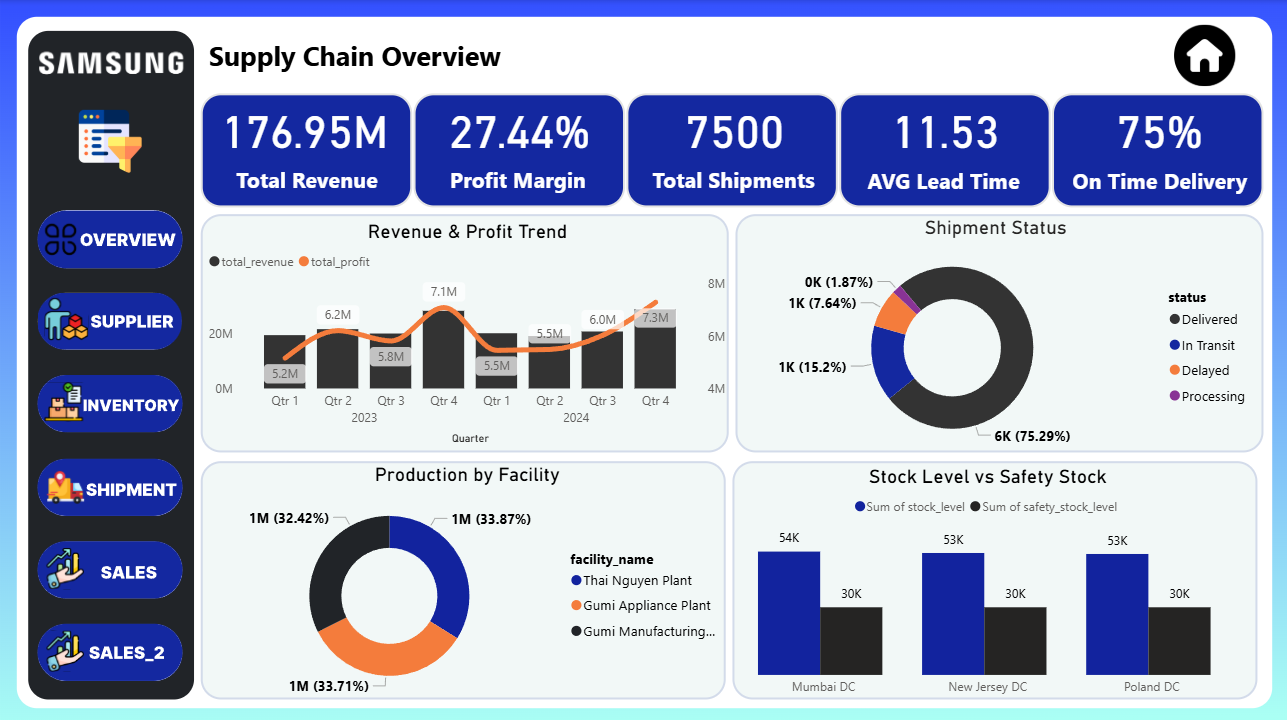

What the dashboard file says about the page in this screenshot:
{"tool":"powerbi","page":{"name":"Overview","canvas":[1280,720],"ordinal":1},"visuals":[{"type":"group","id":"g1","title":"Group 1","box":[202.3,76.7,1056.7,131.4],"z":0},{"type":"card","fields":{"Values":["fact_sales.total_revenue"]},"box":[202.3,76.7,200,100],"z":0,"group":"g1"},{"type":"actionButton","box":[37.2,208.1,144.2,58.1],"z":0,"group":"g2"},{"type":"actionButton","box":[37.2,290.7,143,57],"z":0,"group":"g5"},{"type":"actionButton","box":[37.6,372.9,144,57],"z":0,"group":"g3"},{"type":"actionButton","box":[37.2,455.2,144.2,57.1],"z":0,"group":"g6"},{"type":"actionButton","box":[37.2,537.5,144.2,57.1],"z":0,"group":"g4"},{"type":"actionButton","box":[37.2,619.8,144.2,57.1],"z":0,"group":"g7"},{"type":"card","fields":{"Values":["fact_shipment.on_time_delivery_pct"]},"box":[1051.1,76.7,200,100],"z":1000,"group":"g1"},{"type":"donutChart","title":"Production by Facility","fields":{"Y":["fact_production.total_quantity_produce"],"Category":["dim_facility.facility_name"]},"box":[202.4,460.5,524,241.3],"z":1000},{"type":"card","fields":{"Values":["fact_shipment.total_shipments"]},"box":[629,76.7,200,100],"z":2000,"group":"g1"},{"type":"donutChart","title":"Shipment Status","fields":{"Y":["fact_shipment.total_shipments"],"Category":["fact_shipment.status"]},"box":[726.4,215.3,525.3,240],"z":2000},{"type":"card","fields":{"Values":["fact_sales.profit_margin"]},"box":[416.3,76.7,200,100],"z":3000,"group":"g1"},{"type":"clusteredColumnChart","title":"Stock Level vs Safety Stock","fields":{"Y":["Sum(fact_inventory.stock_level)","Sum(fact_inventory.safety_stock_level)"],"Category":["dim_facility.facility_name"]},"box":[683.3,461.8,596.7,238.7],"z":3000},{"type":"card","fields":{"Values":["fact_procurement.avg_lead_time"]},"box":[839.5,76.7,200,100],"z":4000,"group":"g1"},{"type":"lineStackedColumnComboChart","title":"Revenue & Profit Trend","fields":{"Category":["dim_date.date.Variation.Date Hierarchy.Year","dim_date.date.Variation.Date Hierarchy.Quarter"],"Y":["fact_sales.total_revenue"],"Y2":["fact_sales.total_profit"]},"box":[202.4,217.9,524,228.3],"z":4000},{"type":"textbox","box":[202.1,32.4,336.1,46.9],"z":5000},{"type":"textbox","box":[230.2,158.1,170.9,50],"z":5000,"group":"g1"},{"type":"textbox","box":[441.8,158.1,170.9,50],"z":6000,"group":"g1"},{"type":"group","id":"g2","title":"overview_button","box":[37.2,208.1,144.2,58.1],"z":6000},{"type":"textbox","box":[643,158.1,183.7,50],"z":7000,"group":"g1"},{"type":"group","id":"g3","title":"overview_button","box":[37.6,372.9,144,57],"z":7000},{"type":"textbox","box":[856.9,160,190.7,48],"z":8000,"group":"g1"},{"type":"group","id":"g4","title":"overview_button","box":[37.2,537.5,144.2,57],"z":8000},{"type":"textbox","box":[1060.6,160,198.5,48],"z":9000,"group":"g1"},{"type":"group","id":"g5","title":"overview_button","box":[37.2,290.7,143,57],"z":9000},{"type":"group","id":"g6","title":"overview_button","box":[37.2,455.2,144.2,57],"z":10000},{"type":"group","id":"g7","title":"overview_button","box":[37.2,619.8,144.2,57],"z":11000},{"type":"image","box":[56.4,104.5,106.9,72],"z":12000},{"type":"image","box":[1150.1,20.1,90.4,70.3],"z":14000}]}

Visuals, with their boxes in screenshot pixels (x1, y1, x2, y2), scaled from the page's 1280x720 canvas onto the 1287x720 screenshot:
"Group 1" group: box=[203, 77, 1266, 208]
card - fact_sales.total_revenue: box=[203, 77, 405, 177]
actionButton: box=[37, 208, 182, 266]
actionButton: box=[37, 291, 181, 348]
actionButton: box=[38, 373, 183, 430]
actionButton: box=[37, 455, 182, 512]
actionButton: box=[37, 538, 182, 595]
actionButton: box=[37, 620, 182, 677]
card - fact_shipment.on_time_delivery_pct: box=[1057, 77, 1258, 177]
"Production by Facility" donutChart: box=[204, 460, 730, 702]
card - fact_shipment.total_shipments: box=[632, 77, 834, 177]
"Shipment Status" donutChart: box=[730, 215, 1259, 455]
card - fact_sales.profit_margin: box=[419, 77, 620, 177]
"Stock Level vs Safety Stock" clusteredColumnChart: box=[687, 462, 1286, 700]
card - fact_procurement.avg_lead_time: box=[844, 77, 1045, 177]
"Revenue & Profit Trend" lineStackedColumnComboChart: box=[204, 218, 730, 446]
textbox: box=[203, 32, 541, 79]
textbox: box=[231, 158, 403, 208]
textbox: box=[444, 158, 616, 208]
"overview_button" group: box=[37, 208, 182, 266]
textbox: box=[647, 158, 831, 208]
"overview_button" group: box=[38, 373, 183, 430]
textbox: box=[862, 160, 1053, 208]
"overview_button" group: box=[37, 538, 182, 594]
textbox: box=[1066, 160, 1266, 208]
"overview_button" group: box=[37, 291, 181, 348]
"overview_button" group: box=[37, 455, 182, 512]
"overview_button" group: box=[37, 620, 182, 677]
image: box=[57, 104, 164, 176]
image: box=[1156, 20, 1247, 90]
